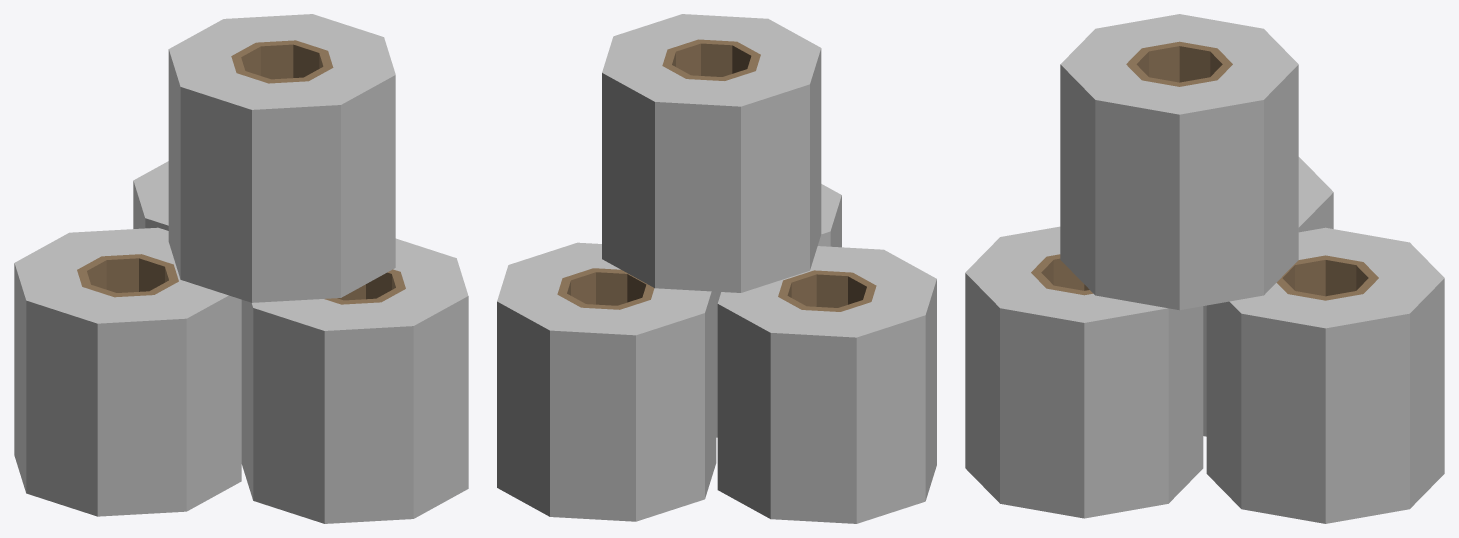
Rendered from SM_Item_ToiletRoll_01.fbx.
The picture shows the model from 3 angles, left to right: view 1: azimuth 30°, elevation 25°; view 2: azimuth 150°, elevation 25°; view 3: azimuth 270°, elevation 25°; orthographic projection. The views are drawn at different scales.
Visible parts, largest first — view 1: SM_Item_ToiletRoll_01; view 2: SM_Item_ToiletRoll_01; view 3: SM_Item_ToiletRoll_01.
Part boxes in pixels (left/top/right/bottom): SM_Item_ToiletRoll_01: left=14, top=14, right=468, bottom=523; SM_Item_ToiletRoll_01: left=497, top=14, right=936, bottom=523; SM_Item_ToiletRoll_01: left=965, top=14, right=1444, bottom=523.
Bounding box in the file's own units: 28.9 × 28.26 × 31.39.
